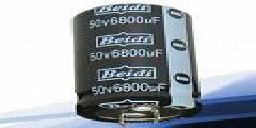Electrolytic-Capacitor: (71, 1, 205, 125)
